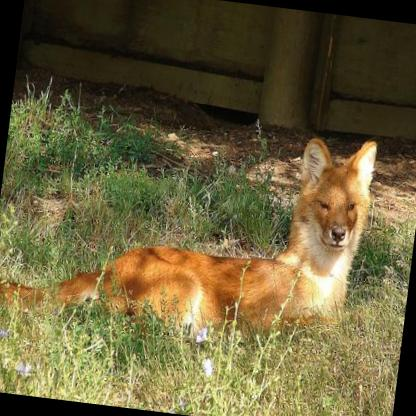dhole: (0, 77, 409, 369)
